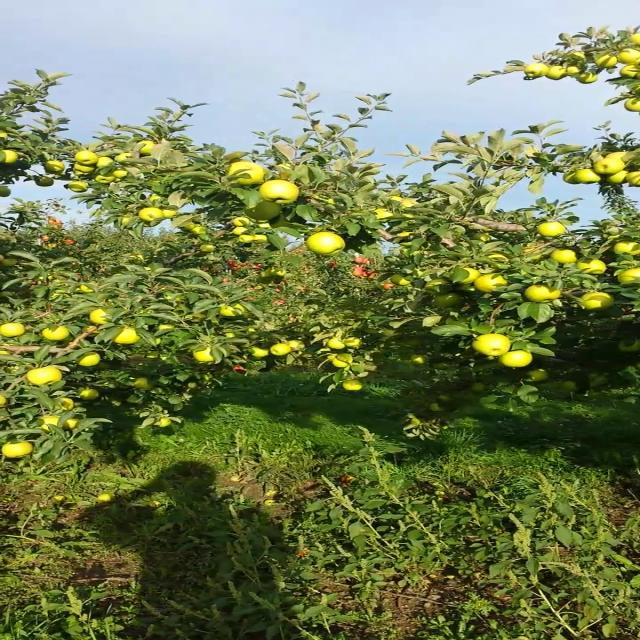apple: (227, 161, 265, 185), (260, 181, 296, 205), (306, 233, 344, 255), (472, 334, 510, 356), (244, 200, 280, 220), (27, 367, 62, 386), (473, 274, 507, 292), (525, 285, 559, 303), (582, 292, 612, 310), (2, 442, 32, 458), (500, 350, 530, 366), (113, 327, 139, 345), (596, 158, 624, 174), (436, 293, 464, 309), (426, 279, 452, 295), (575, 169, 600, 185), (616, 49, 639, 65), (138, 208, 164, 222), (578, 260, 604, 274), (537, 222, 566, 234), (618, 267, 639, 283), (551, 250, 578, 262), (0, 323, 23, 337), (615, 242, 638, 256), (218, 304, 244, 316), (76, 151, 98, 165), (44, 325, 66, 339), (524, 64, 546, 78), (396, 231, 415, 247), (40, 417, 61, 431), (606, 170, 627, 184), (74, 353, 98, 365), (594, 54, 615, 67), (194, 347, 213, 361), (618, 339, 638, 352), (137, 140, 155, 154), (90, 309, 108, 323), (135, 378, 154, 391), (545, 66, 565, 78), (95, 172, 116, 183), (389, 275, 412, 285), (528, 370, 547, 382), (462, 268, 478, 282), (575, 73, 597, 83), (272, 344, 291, 355), (332, 357, 350, 368), (46, 162, 62, 174), (98, 157, 114, 169), (2, 255, 18, 267), (487, 254, 510, 262), (69, 182, 87, 192), (249, 347, 267, 357), (623, 149, 638, 161), (327, 339, 345, 349), (412, 354, 428, 365), (627, 172, 639, 186), (80, 391, 96, 401), (566, 66, 582, 76), (622, 66, 638, 76), (562, 174, 578, 184), (342, 381, 362, 389), (60, 398, 72, 411), (232, 218, 251, 226), (472, 234, 491, 242), (34, 178, 52, 186), (400, 199, 418, 207), (346, 338, 362, 347), (434, 362, 452, 370), (375, 210, 392, 218), (76, 165, 95, 172), (627, 99, 638, 111), (157, 418, 170, 428), (200, 245, 216, 253), (286, 341, 302, 349), (606, 153, 627, 159), (460, 285, 478, 292), (4, 152, 16, 162), (429, 403, 444, 411), (116, 154, 130, 162), (114, 169, 128, 177), (179, 223, 193, 231), (190, 228, 206, 235), (233, 227, 247, 235), (252, 235, 266, 243), (64, 420, 78, 428), (470, 382, 484, 390), (240, 235, 253, 243), (156, 324, 173, 330), (271, 270, 286, 276), (0, 344, 9, 354), (2, 186, 10, 196), (81, 285, 93, 291), (122, 217, 132, 224), (631, 34, 638, 44), (75, 170, 86, 176), (162, 210, 172, 216), (150, 196, 160, 202), (260, 272, 270, 278), (1, 152, 5, 162), (0, 395, 4, 405), (0, 132, 5, 138), (226, 334, 234, 336)
